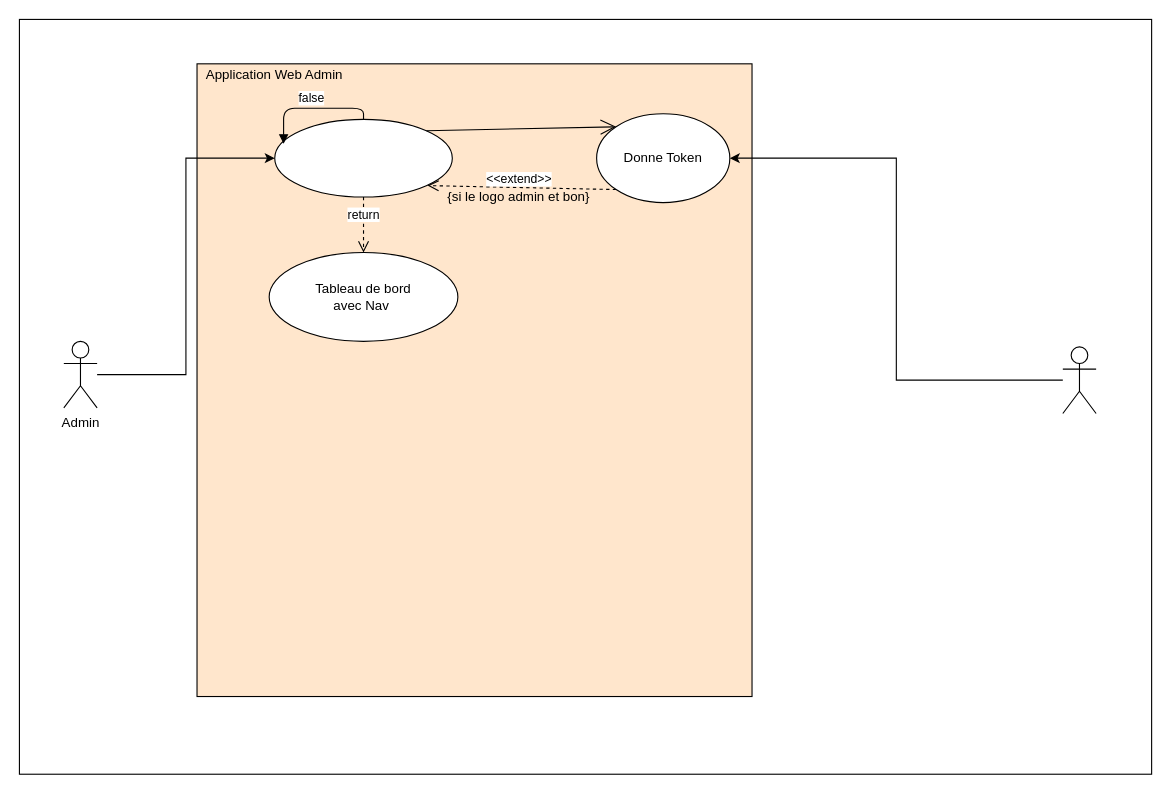
The diagram is 1171 pixels wide and 794 high, and some of its shapes have lost their labels. Here are the shapes that lost their labels. From the top down, the centre of each, then its label:
the point at 363,157: Login
the point at 1079,379: API REST
